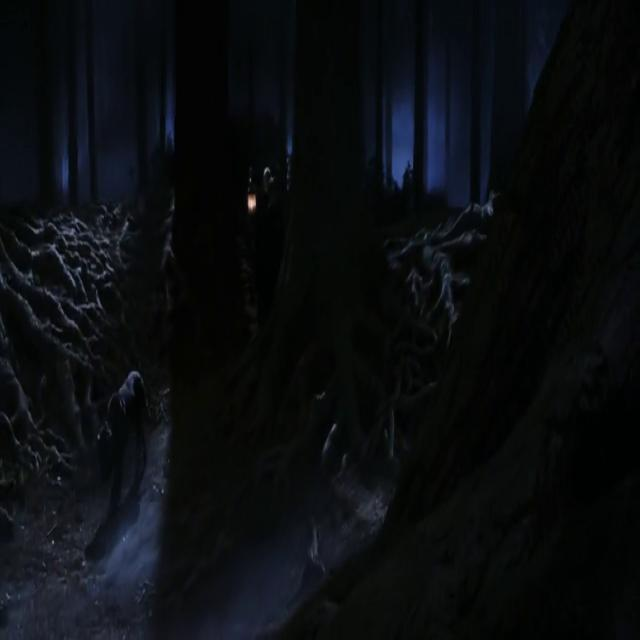Dog: (54, 330, 166, 524)
